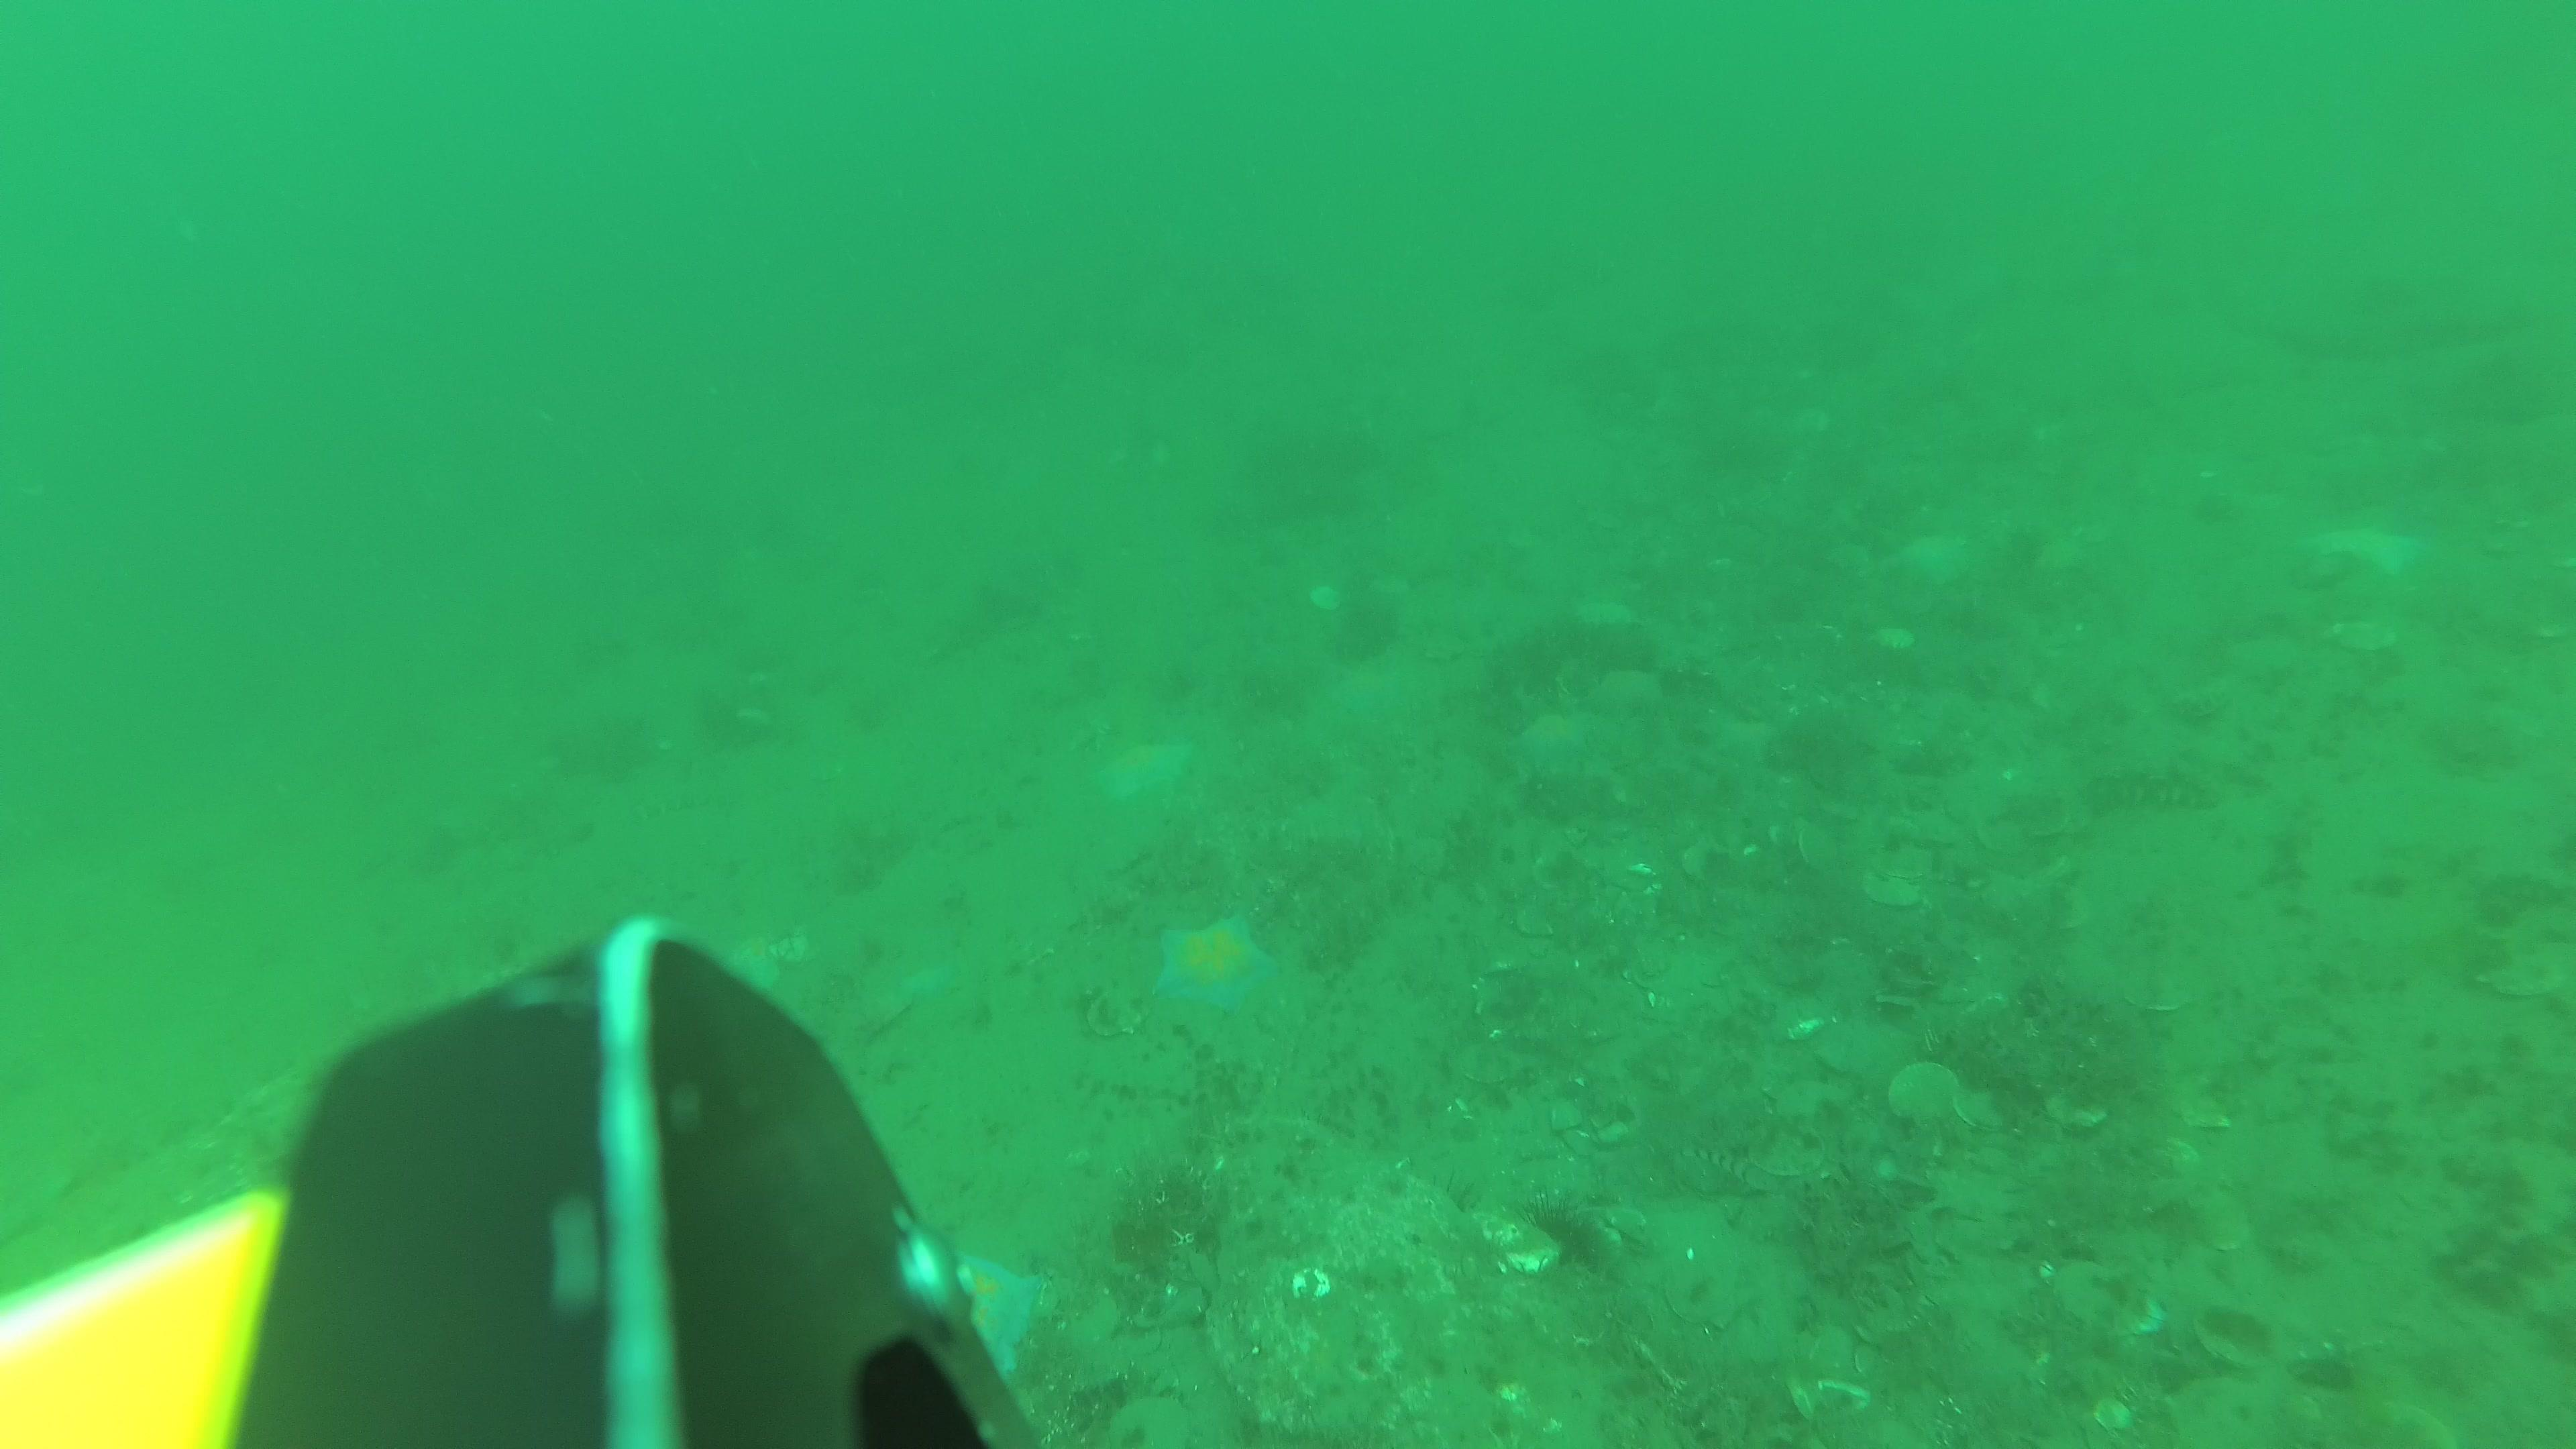echinus: (1518, 1182, 1610, 1281), (2327, 616, 2399, 655)
holothurian: (2079, 763, 2227, 823)
scallop: (2187, 1302, 2286, 1373), (2472, 932, 2576, 998), (2173, 1180, 2252, 1263), (2045, 1260, 2130, 1330), (1888, 1058, 1967, 1132), (1658, 1265, 1744, 1332), (1744, 1122, 1835, 1180), (2166, 1072, 2238, 1136), (2116, 962, 2201, 1014), (1792, 817, 1847, 878), (1085, 991, 1146, 1044), (1458, 1040, 1523, 1086), (1950, 1079, 2006, 1132), (2043, 1088, 2111, 1132), (1575, 593, 1642, 637), (1870, 840, 1937, 883), (1858, 874, 1925, 913)
starfish: (932, 1237, 1054, 1387), (1139, 906, 1281, 1024), (1077, 732, 1198, 816), (1318, 656, 1415, 741), (1877, 518, 1982, 596), (2305, 513, 2426, 580), (1507, 704, 1605, 770)
